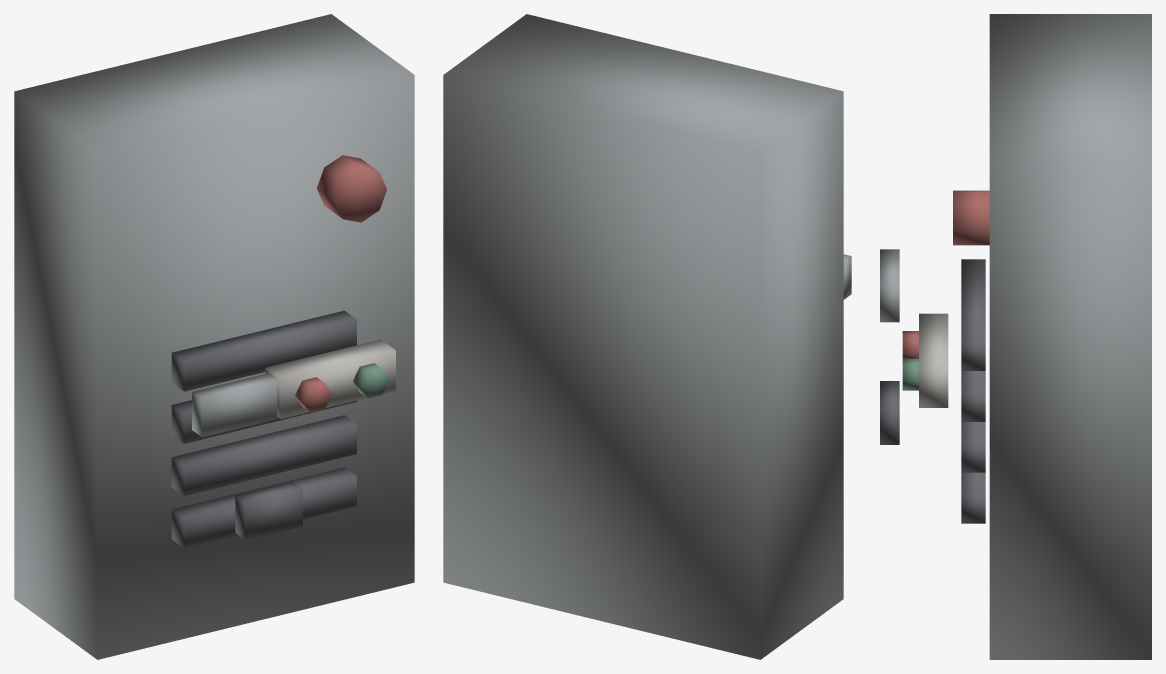
Rendered from wall_intercom__weathered.glb.
The picture shows the model from 3 angles, left to right: view 1: azimuth 30°, elevation 25°; view 2: azimuth 150°, elevation 25°; view 3: azimuth 270°, elevation 25°; orthographic projection. The views are drawn at different scales.
Parts seen in each view (by area): view 1: world; view 2: world; view 3: world.
Part boxes in pixels (x1,y1,x2,y2): world: (14,14,414,659); world: (443,14,851,659); world: (880,14,1151,659).
Bounding box in the file's own units: 0.22 × 0.3366 × 0.1675.
